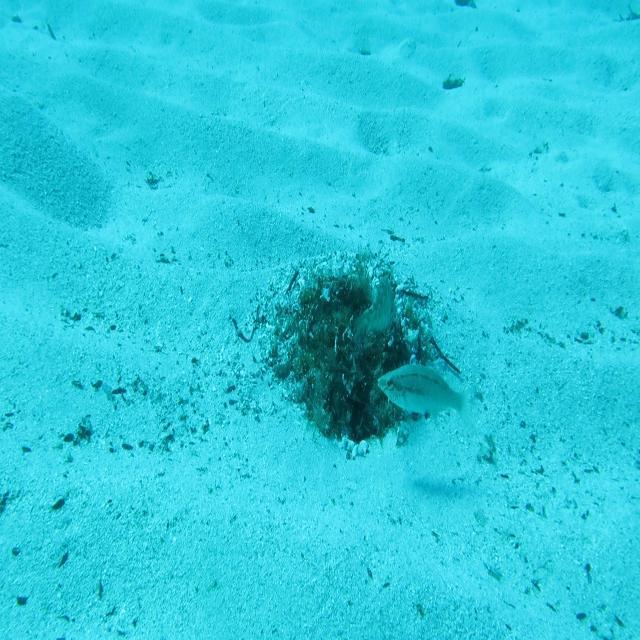NIP_CORE: (350, 273, 396, 342)
core_nest: (326, 287, 369, 333)
female: (376, 358, 481, 444)
nest: (246, 242, 452, 476)
vegetation: (443, 72, 465, 92), (454, 0, 478, 9)
